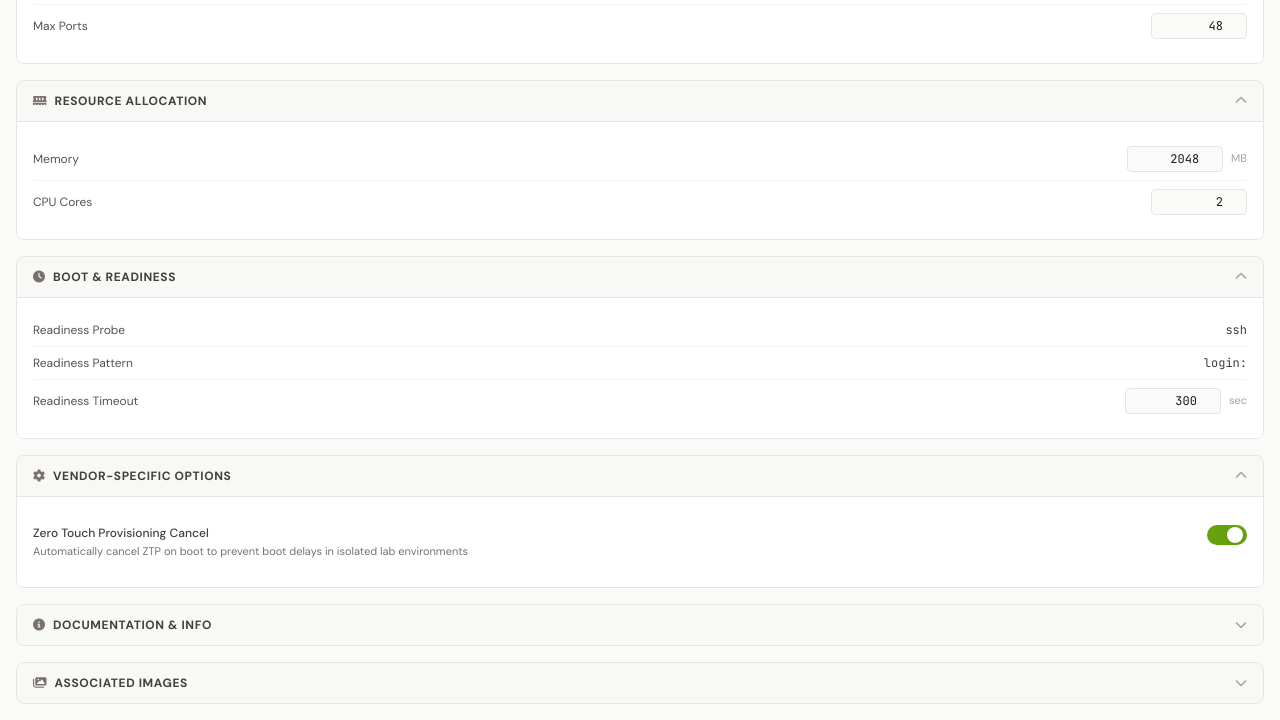
DeviceConfigPanel › Documentation & Info section › shows documentation link when URL is provided
(page scrolled)
Expected: the text "Documentation & Info" is shown, [53,617,212,633]
// Expand the collapsed section
Step 1. Click the button "Documentation & Info" → {"x": 132, "y": 625}, box [17,605,1263,645]
(page scrolled)
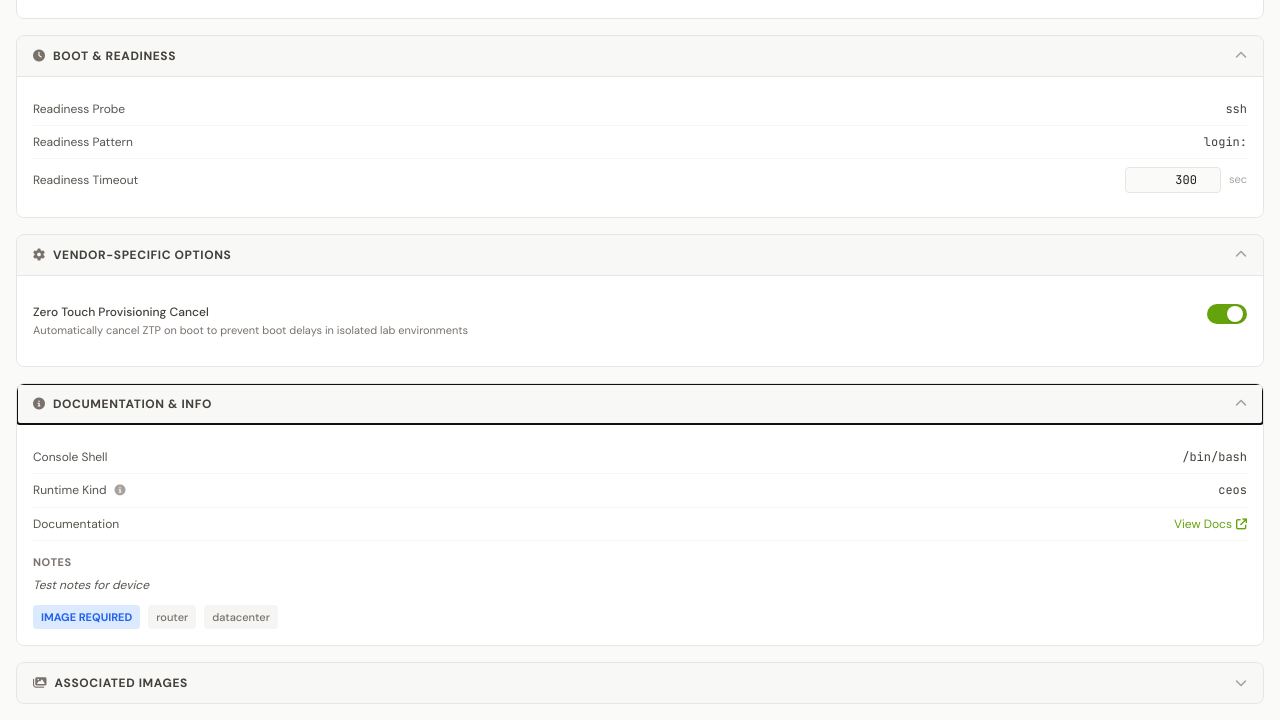
Now the link "View Docs" is shown, box [1174,516,1247,532]
